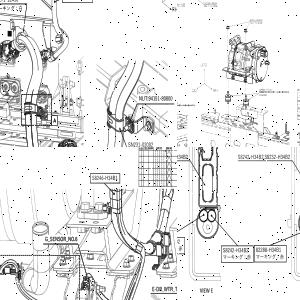PartNumber: (255, 246, 282, 254), (148, 94, 173, 102), (238, 152, 263, 160), (127, 140, 154, 147), (264, 153, 291, 160), (222, 247, 249, 254), (92, 175, 118, 181), (177, 153, 188, 159), (250, 18, 262, 22), (259, 88, 272, 91), (0, 0, 19, 2), (204, 2, 218, 4), (297, 99, 300, 102), (297, 106, 300, 109), (297, 114, 300, 117)
